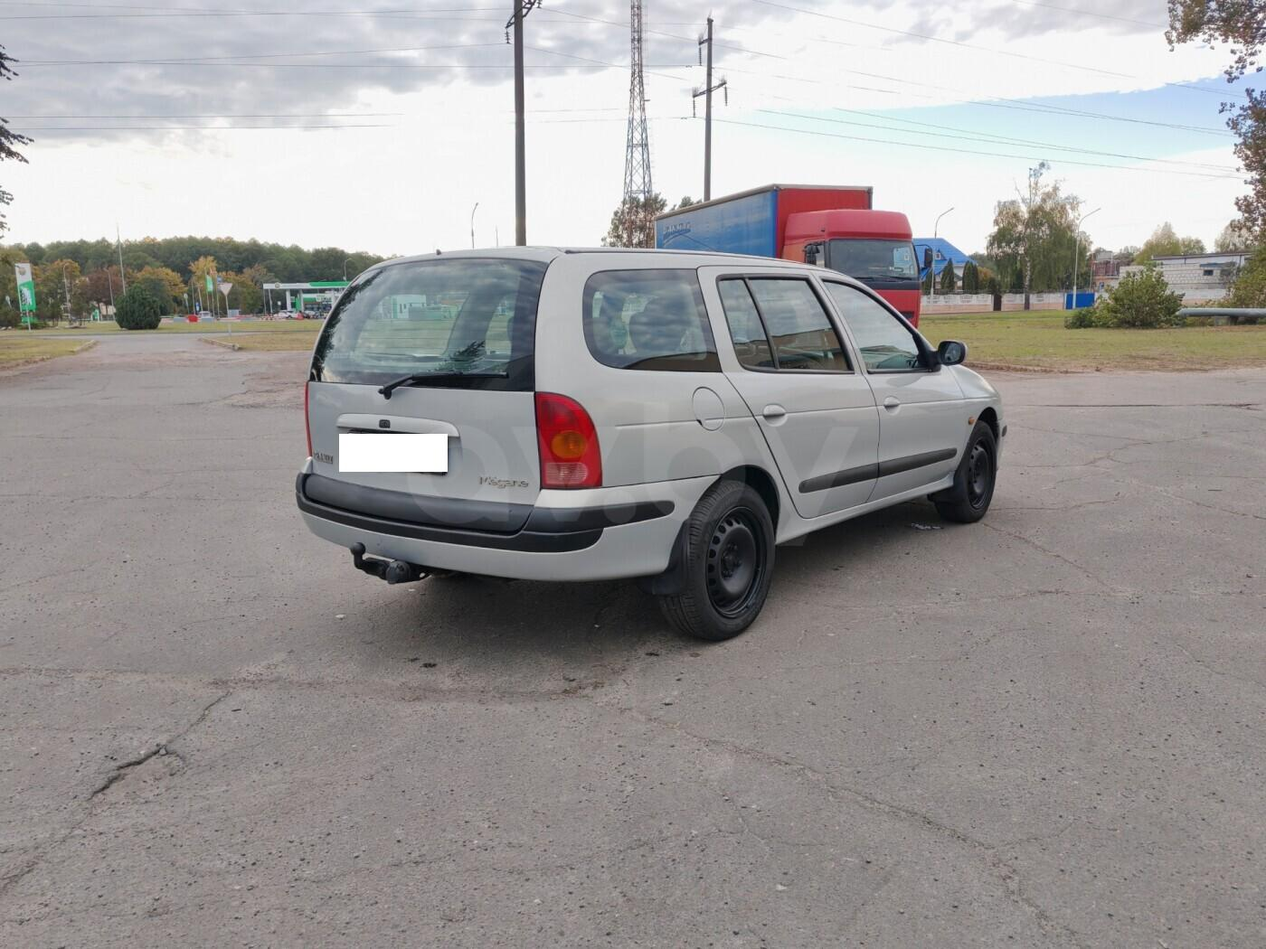Megane_1999-2003: (284, 241, 1017, 658)
